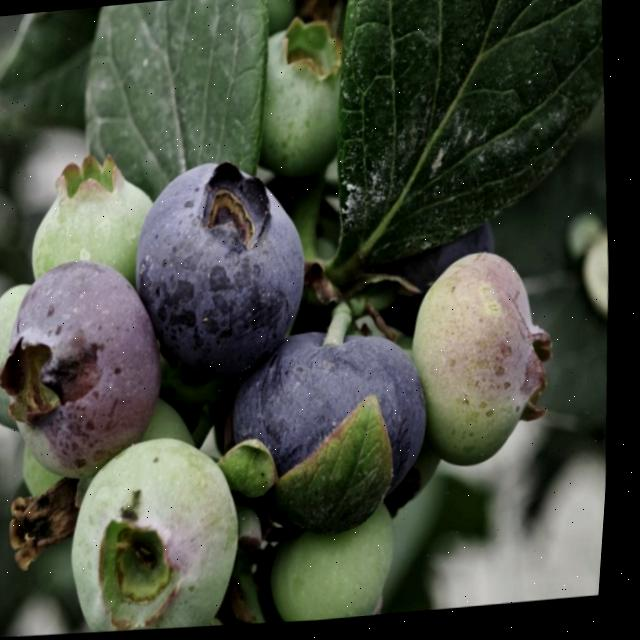RipeBlueBerry: (127, 156, 329, 391), (260, 323, 447, 505)
Semi-RipeBlueBerry: (0, 254, 183, 493), (407, 249, 570, 480)
UnripeBlueBerry: (61, 428, 263, 637)
